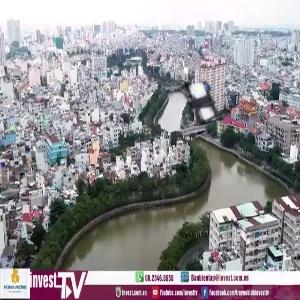drone: (159, 64, 239, 144)
